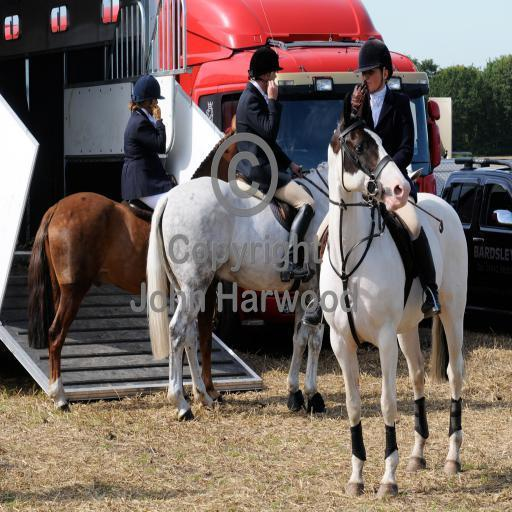horse: (318, 83, 470, 502), (28, 128, 238, 414), (145, 157, 331, 416)
